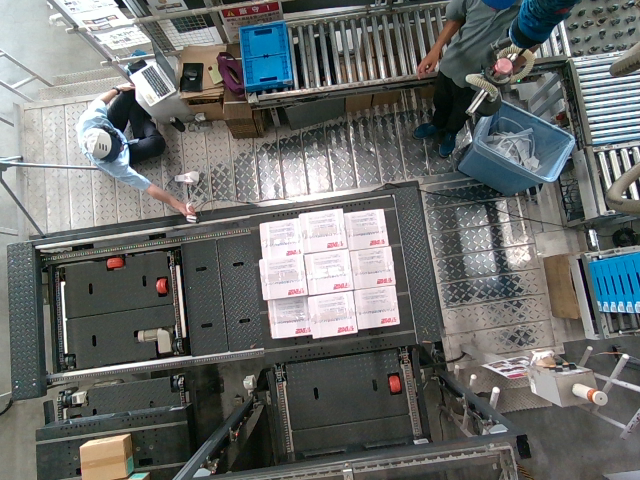box: (298, 207, 344, 251), (261, 255, 307, 299), (305, 249, 351, 293), (346, 247, 392, 291), (308, 293, 354, 337), (356, 286, 402, 330), (267, 296, 313, 340), (257, 220, 297, 256), (346, 208, 386, 244)
